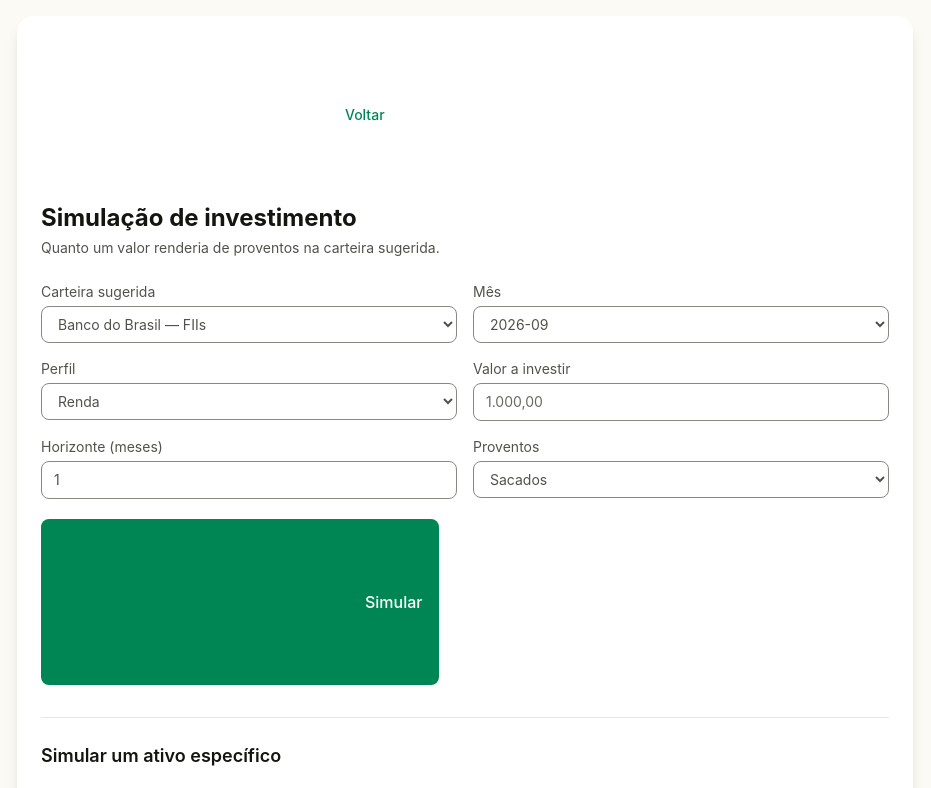
Test: SimulationComponent › resultado obsoleto › deve desabilitar o botão enquanto a simulação está em voo
Type "1000" into the field labelled "Valor a investir".
click(681, 402); type("1000")  # box [473,383,889,421]
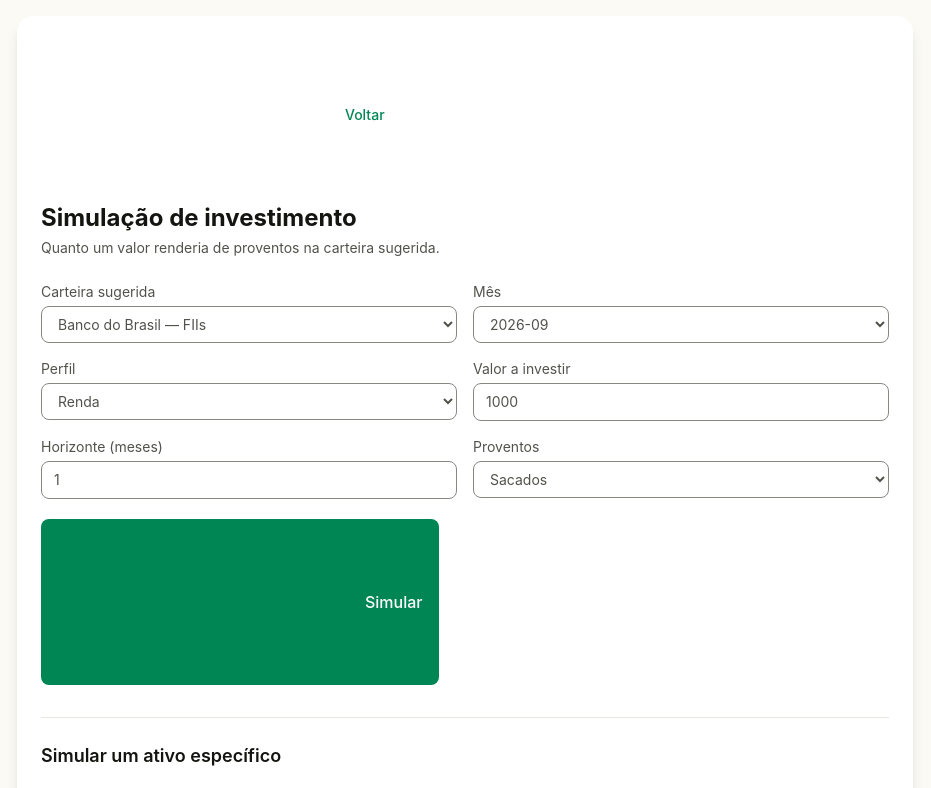
Click the button with test id "simulate-button".
click(240, 602)  # box [41,519,438,685]
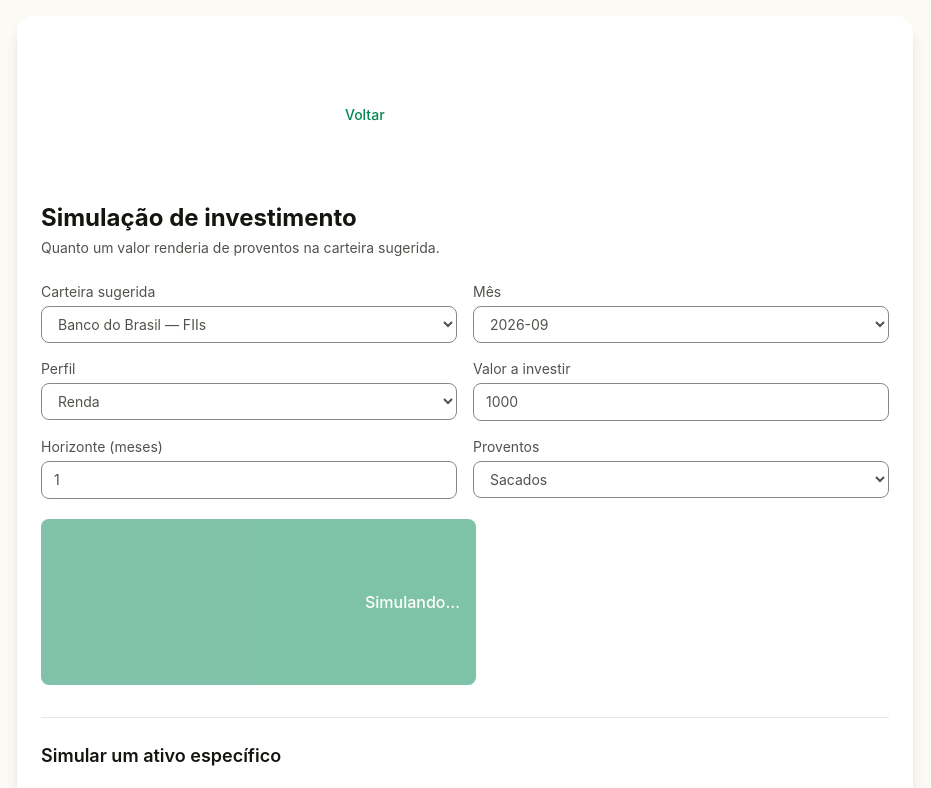
Check: the button with test id "simulate-button" is disabled, box [41,519,476,685]
